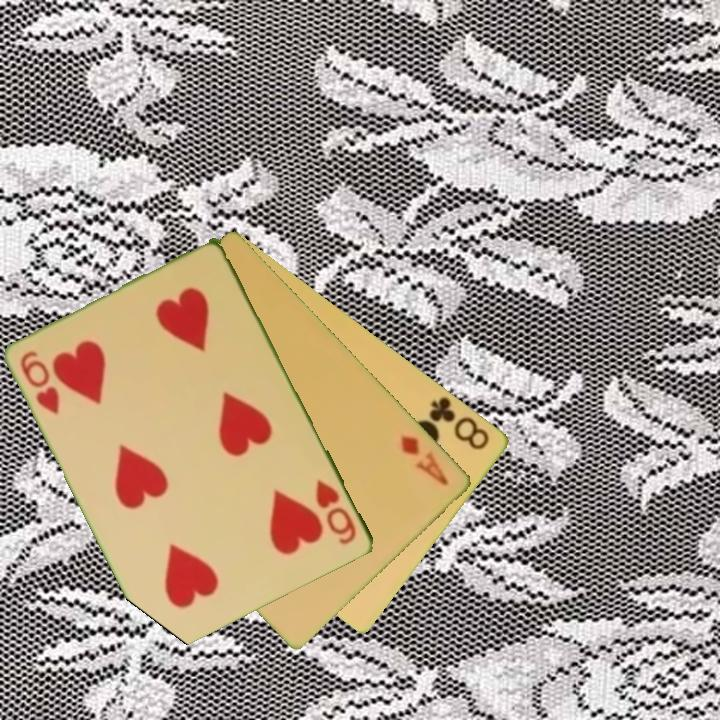6h: (312, 476, 360, 548), (17, 347, 63, 418)
8c: (426, 392, 493, 453)
Ad: (397, 431, 453, 488)
